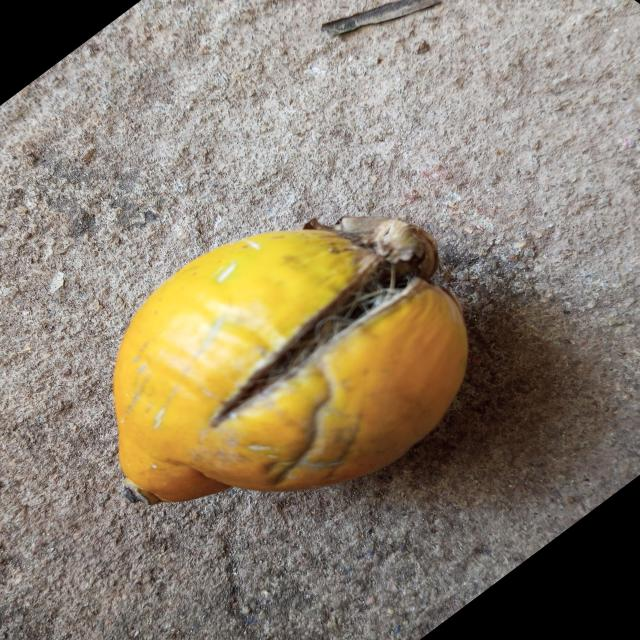damaged: (114, 217, 467, 505)
